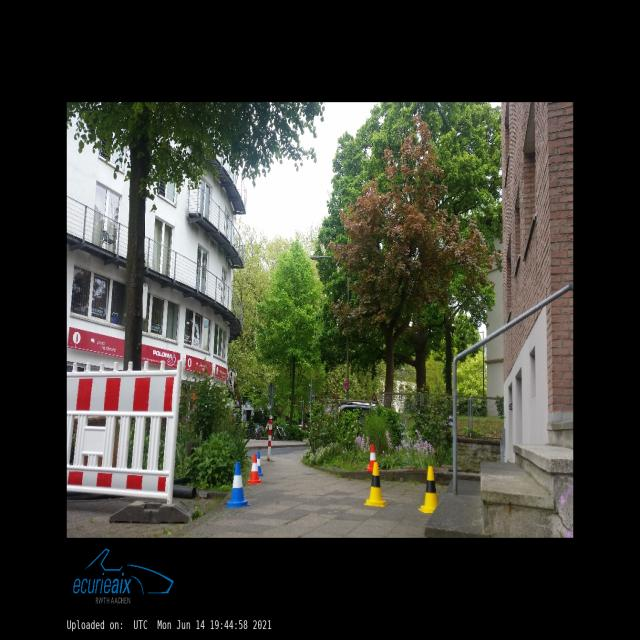blue_cone: (225, 463, 250, 508), (257, 452, 263, 476)
orange_cone: (247, 454, 261, 484), (366, 445, 379, 472)
yellow_cone: (364, 462, 388, 507), (419, 466, 438, 513)
